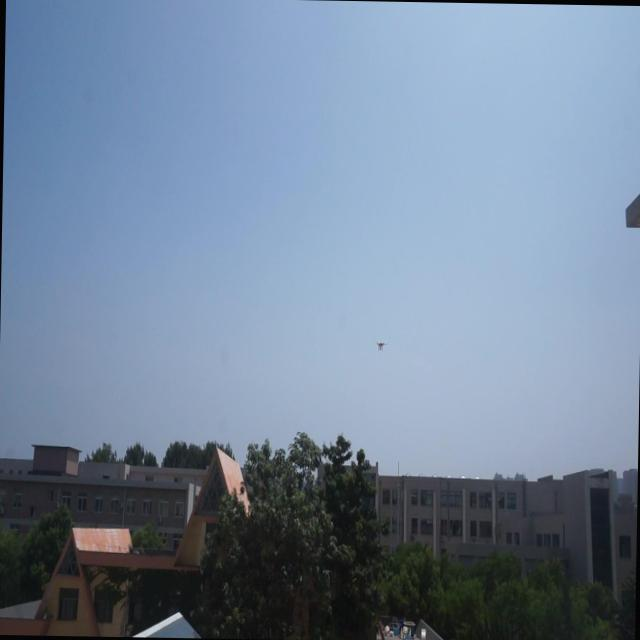drone: (375, 336, 386, 352)
